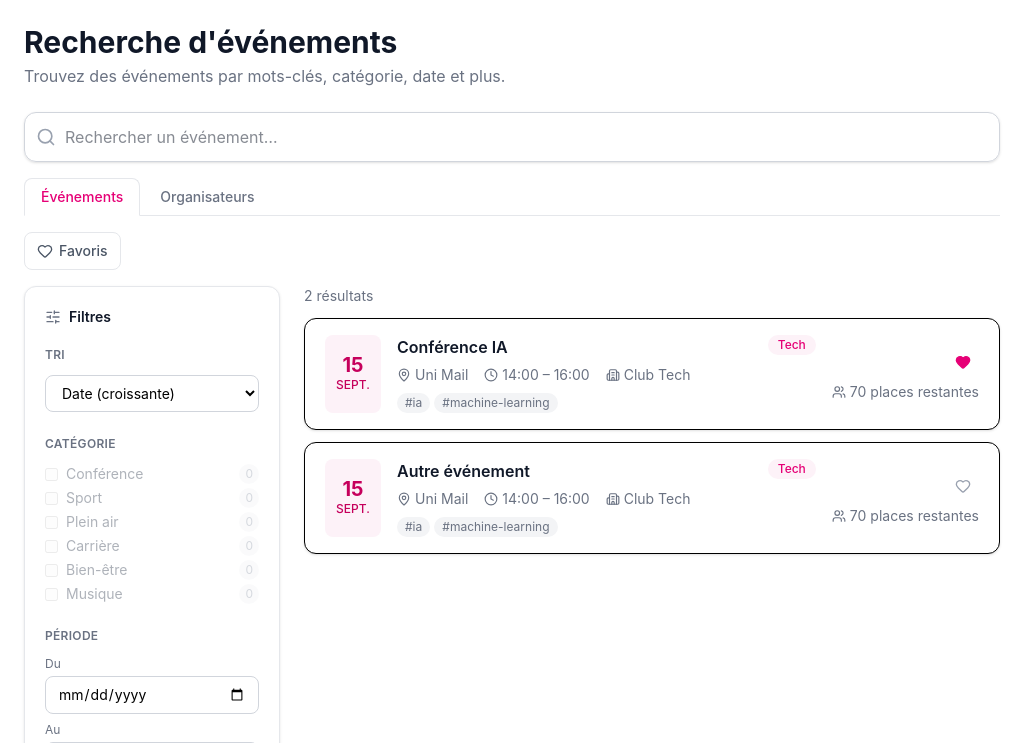
Test case: SearchPage › filters results to favourites when the « Favoris » toggle is on
Check: the heading "Conférence IA" is shown, box [397,335,508,359]
Check: the heading "Autre événement" is shown, box [397,459,530,483]
Click the button "Favoris".
click(72, 251)  # box [24,232,120,270]
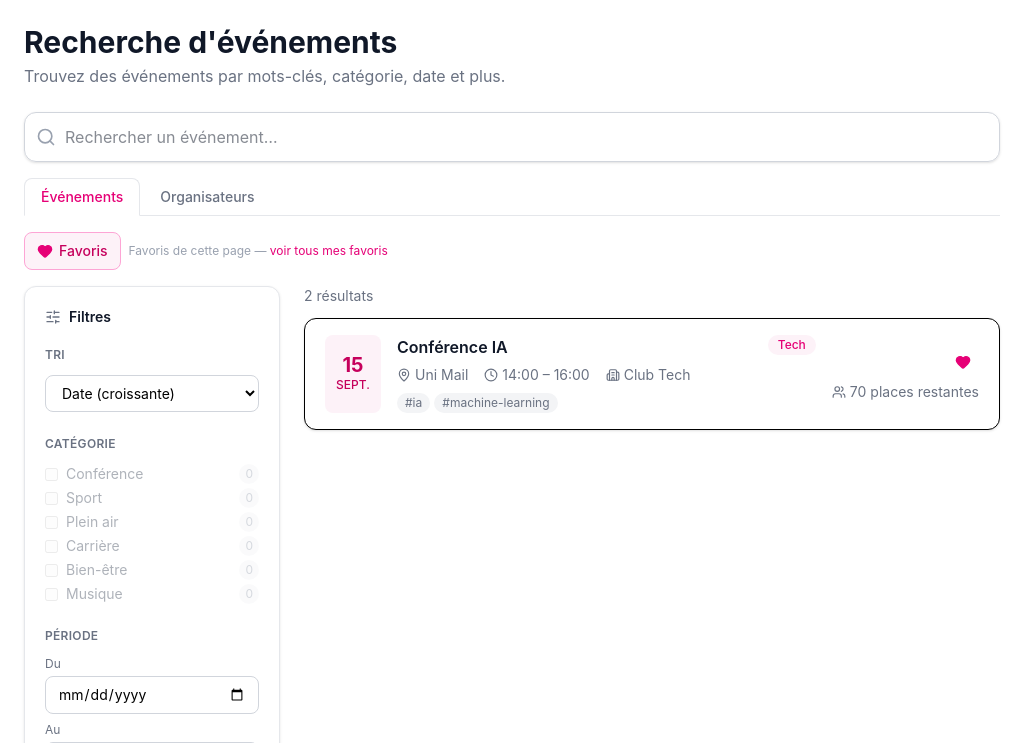
Check: the heading "Conférence IA" is shown, box [397,335,508,359]
Check: the link "Autre événement" is gone
